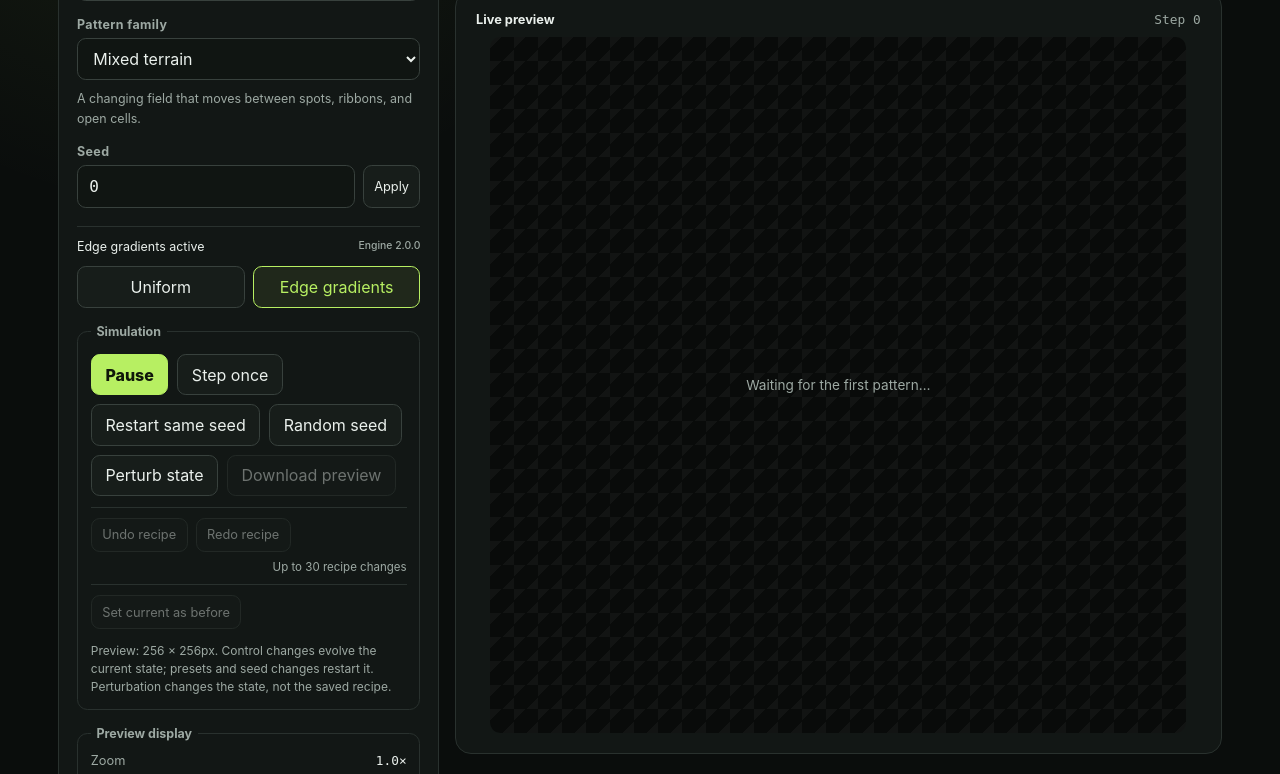
Test: live controls › pauses before requesting one numerical step
(page scrolled)
Click the button "Step once" at (230, 375), box [177,354,283,396]
(page scrolled)
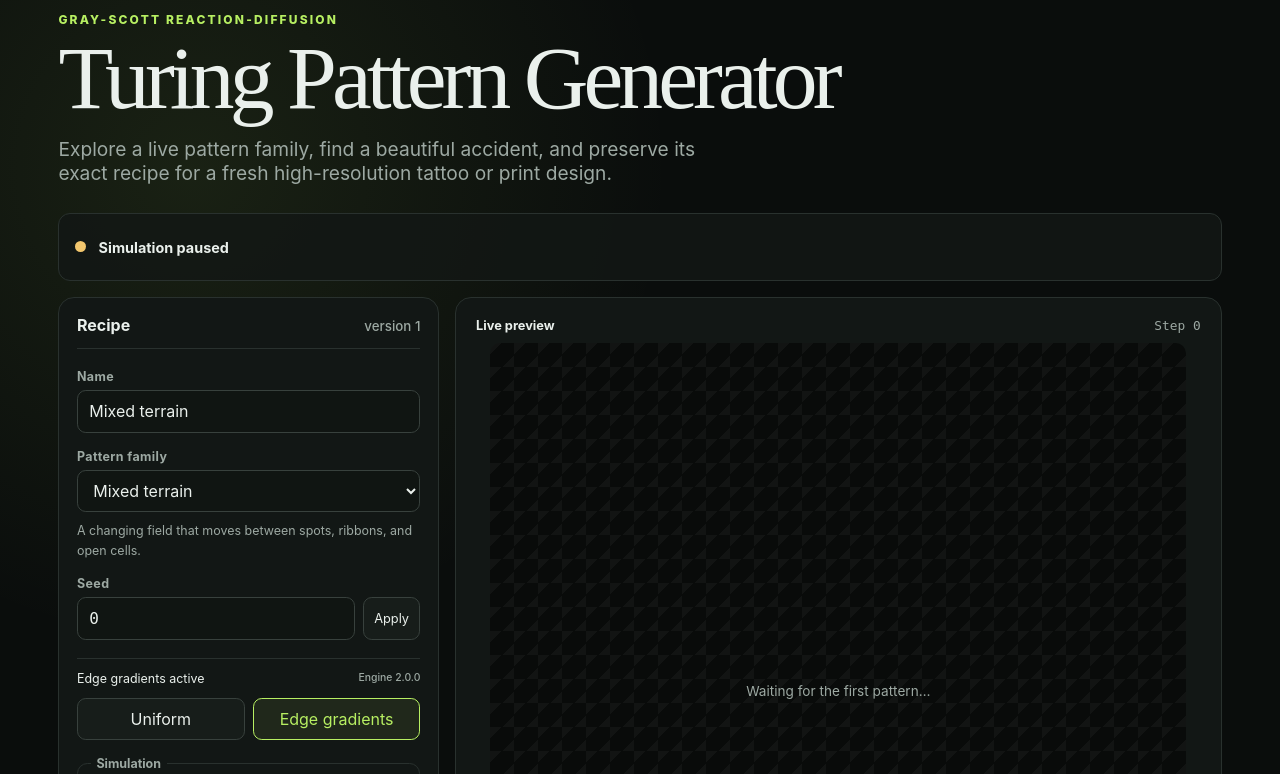
Result: the text "Simulation paused" is shown at [99,238,229,256]
